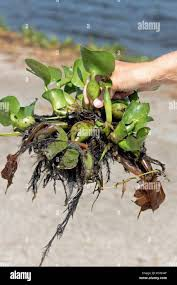water_hyacinth: (0, 46, 168, 225)
